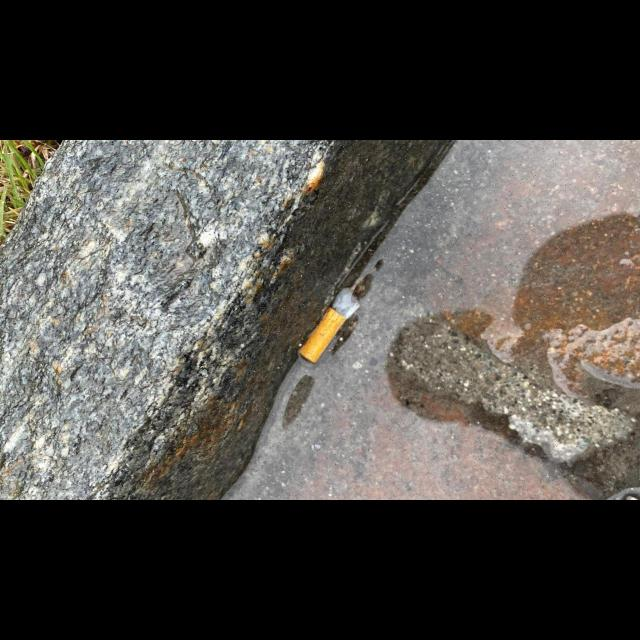cigarette: (298, 286, 361, 364)
